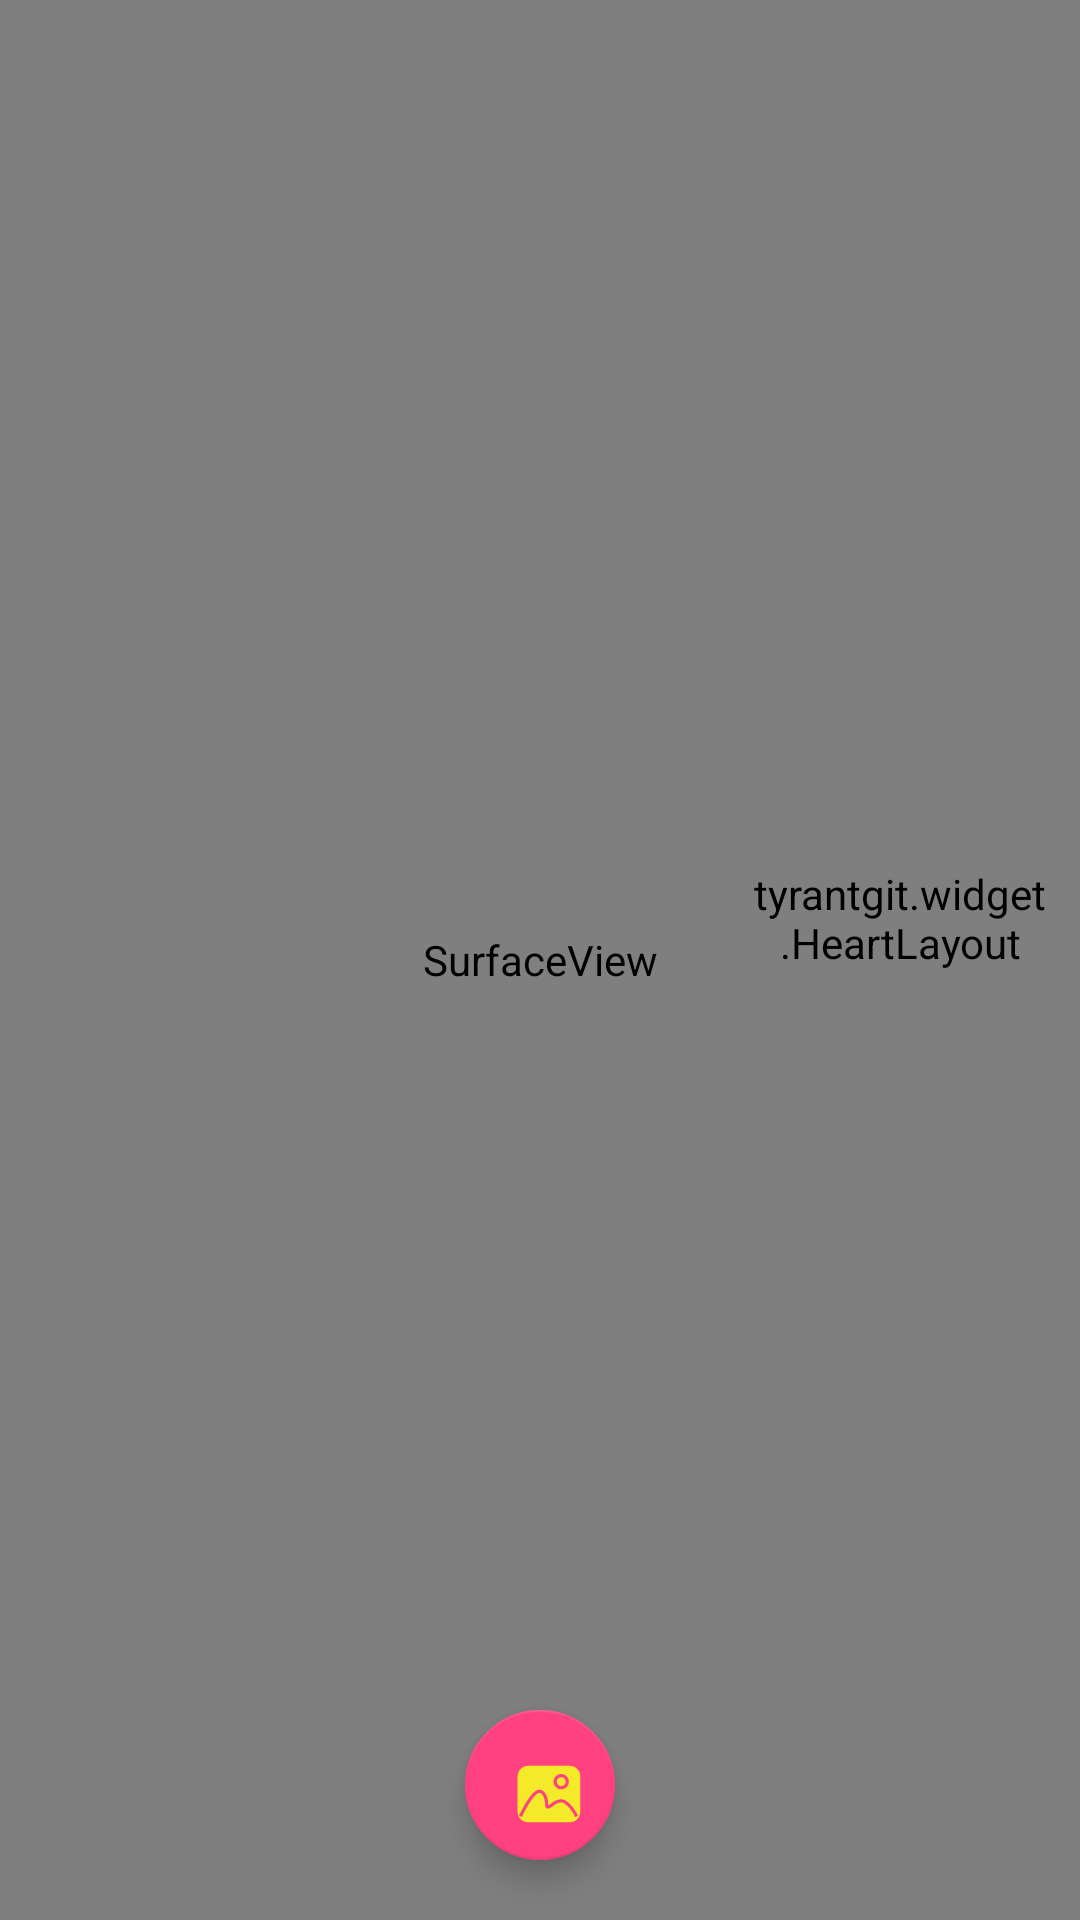

Where to tap for icons on this 1080px x 1920px app screen, as point (x, y):
photo: point (540, 1785)
